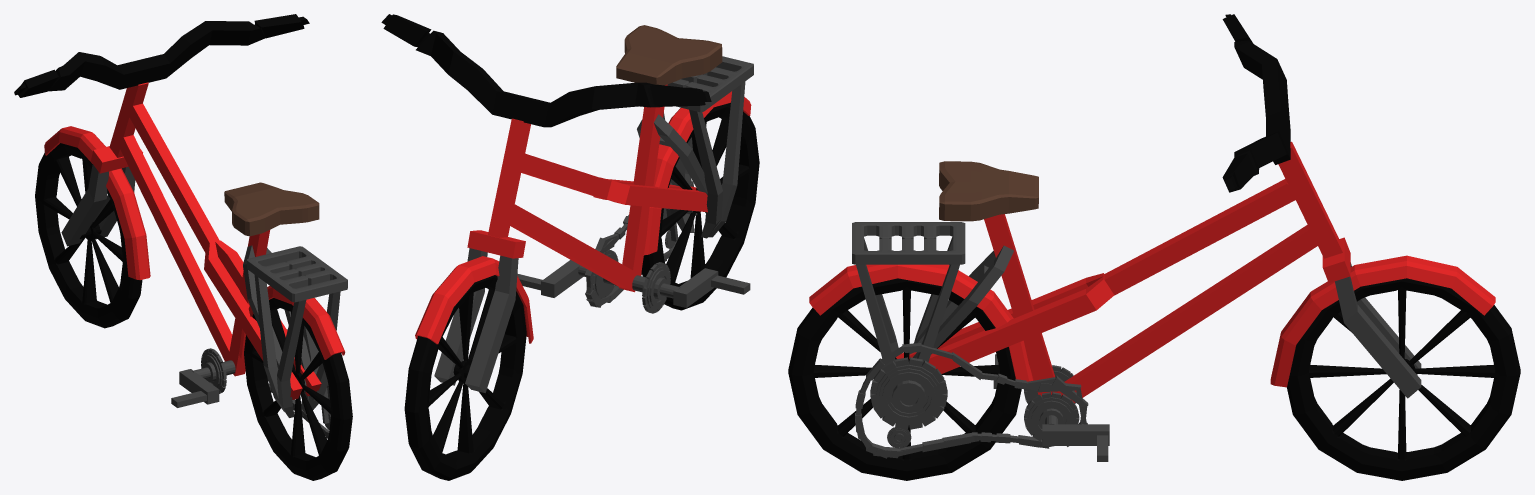
Rendered from Bicycle.fbx.
3 views of the same model, side by side, from view 1: azimuth 30°, elevation 25°; view 2: azimuth 150°, elevation 25°; view 3: azimuth 270°, elevation 25° (orthographic). The views are drawn at different scales.
Visible parts, largest first — view 1: Cube, Circle, Circle.001, Cube.003, Cube.006, Circle.002, Cube.012, Cube.007, Cube.004, Cube.001, Circle.003, Cube.009 (+3 smaller); view 2: Circle, Cube, Cube.003, Circle.001, Cube.001, Cube.012, Cube.006, Circle.002, Cube.004, Circle.003, Cylinder, Cube.007 (+5 smaller); view 3: Circle, Cube, Circle.001, Circle.002, Cube.004, Cube.003, Cube.012, Cube.010, Circle.003, Cylinder.001, Cube.007, Cube.001 (+5 smaller).
Boxes of the visible parts, x1,y1,x2,y2 form: Cube: [109, 82, 269, 376]; Circle: [35, 143, 142, 328]; Circle.001: [244, 298, 352, 480]; Cube.003: [14, 14, 309, 97]; Cube.006: [254, 274, 340, 417]; Circle.002: [44, 126, 150, 280]; Cube.012: [224, 182, 319, 236]; Cube.007: [247, 246, 347, 302]; Cube.004: [204, 240, 321, 399]; Cube.001: [61, 164, 135, 246]; Circle.003: [239, 286, 345, 359]; Cube.009: [171, 369, 219, 407]; Circle: [404, 275, 526, 480]; Cube: [488, 84, 667, 292]; Cube.003: [381, 14, 711, 127]; Circle.001: [641, 102, 759, 310]; Cube.001: [434, 248, 518, 393]; Cube.012: [616, 25, 722, 85]; Cube.006: [663, 81, 745, 238]; Circle.002: [415, 256, 533, 344]; Cube.004: [593, 177, 707, 212]; Circle.003: [644, 91, 751, 255]; Cylinder: [578, 249, 680, 313]; Cube.007: [667, 56, 753, 112]; Circle: [1286, 278, 1520, 480]; Cube: [984, 141, 1342, 402]; Circle.001: [788, 278, 1021, 480]; Circle.002: [1270, 255, 1495, 387]; Cube.004: [896, 273, 1114, 373]; Cube.003: [1222, 14, 1290, 192]; Cube.012: [939, 161, 1038, 221]; Cube.010: [855, 343, 1088, 458]; Circle.003: [809, 264, 1033, 381]; Cylinder.001: [870, 357, 947, 429]; Cube.007: [852, 222, 965, 264]; Cube.001: [1335, 262, 1421, 398].
Size of the model in its own units: 170 by 179 by 308.
